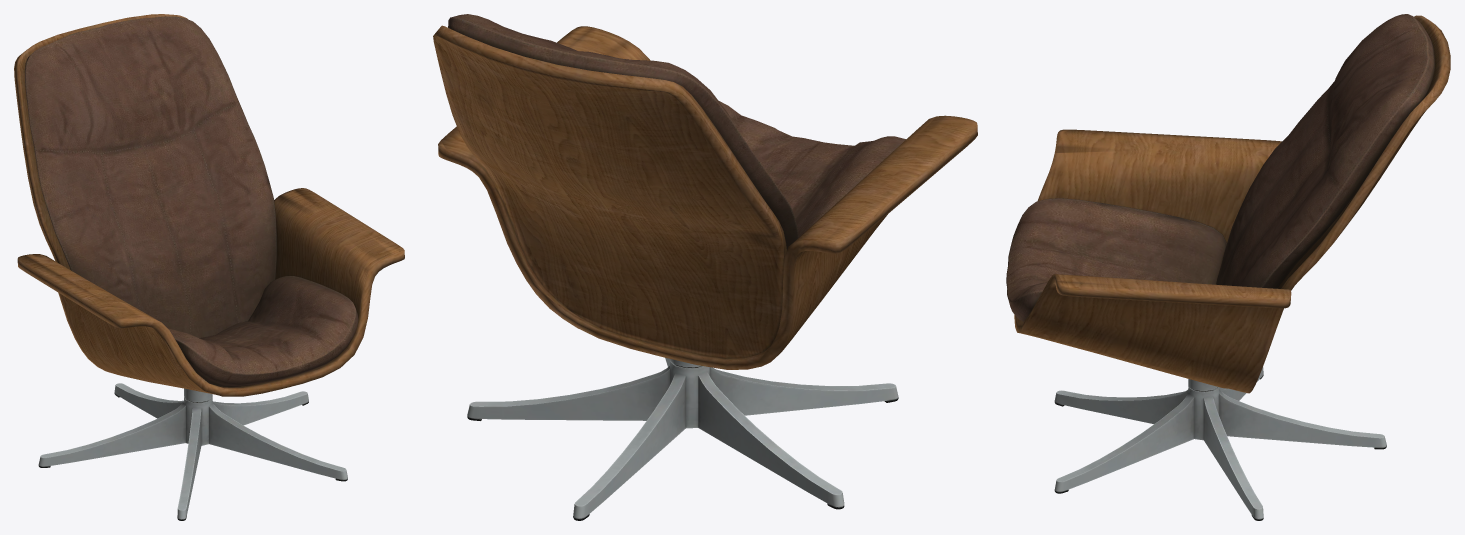
The model's file is mid-century-lounge-chair.glb.
3 renders of one model, left to right at view 1: azimuth 30°, elevation 25°; view 2: azimuth 150°, elevation 25°; view 3: azimuth 270°, elevation 25°, orthographic. The views are drawn at different scales.
Visible parts, largest first — view 1: mid_century_lounge_chair; view 2: mid_century_lounge_chair; view 3: mid_century_lounge_chair.
Boxes of the visible parts, x1,y1,x2,y2 form: mid_century_lounge_chair: [14, 14, 404, 520]; mid_century_lounge_chair: [433, 14, 977, 520]; mid_century_lounge_chair: [1006, 14, 1450, 520].
Size of the model in its own units: 1.01 by 1.17 by 1.19.
Materials: 1 (1 with a texture image).
